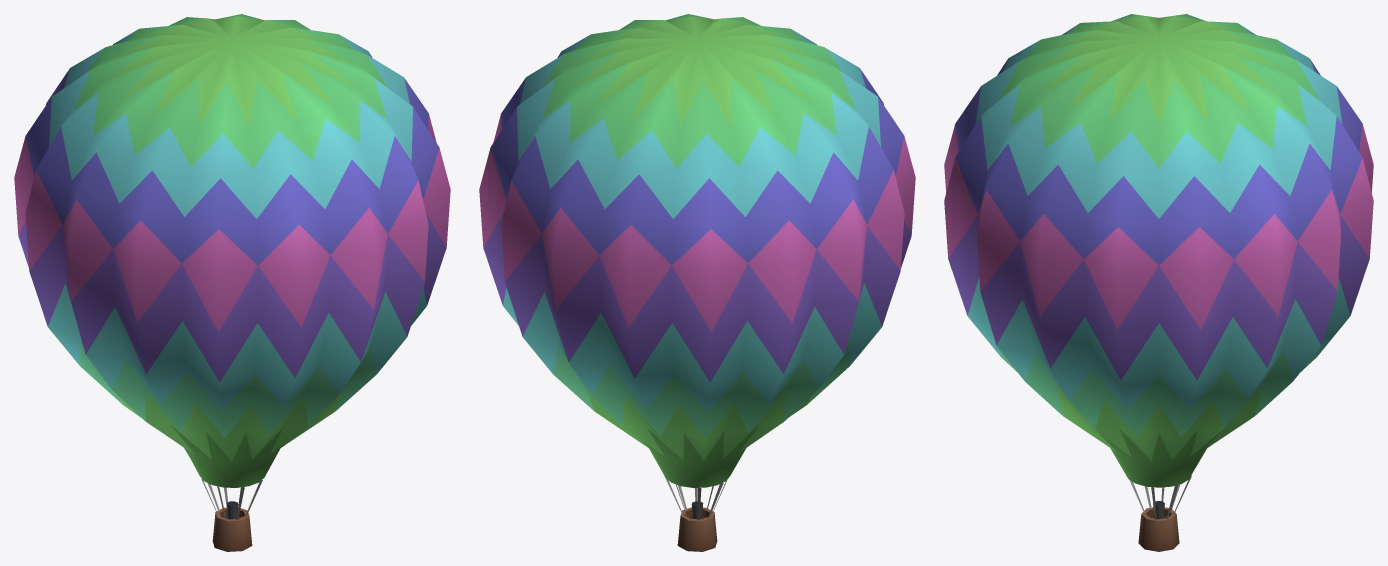
The model's file is vehicles-aircraft-hot-air-balloon_v4.fbx.
The picture shows the model from 3 angles, left to right: view 1: azimuth 30°, elevation 25°; view 2: azimuth 150°, elevation 25°; view 3: azimuth 270°, elevation 25°; orthographic projection.
Visible parts, largest first — view 1: Hot Air Balloon_v4; view 2: Hot Air Balloon_v4; view 3: Hot Air Balloon_v4.
Boxes of the visible parts, x1,y1,x2,y2 form: Hot Air Balloon_v4: (14, 14, 450, 551); Hot Air Balloon_v4: (479, 14, 915, 551); Hot Air Balloon_v4: (944, 14, 1373, 551).
Size of the model in its own units: 19.05 by 25 by 19.05.
